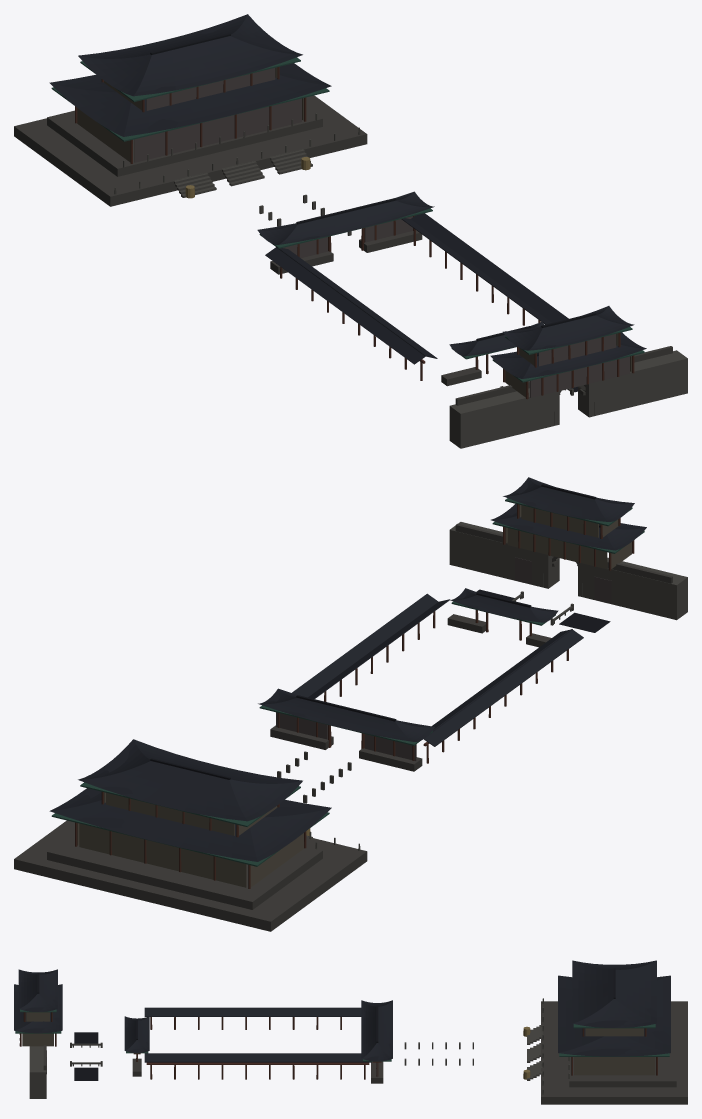
File: palace.glb
3 views of the same model, one above another, from view 1: azimuth 30°, elevation 25°; view 2: azimuth 150°, elevation 25°; view 3: azimuth 270°, elevation 25° (orthographic). The views are drawn at different scales.
Visible parts, largest first — view 1: jj_woldae1, jj_r2, jj_r1, jj_woldae2, gw_baseL, jj_body_wallS, gw_baseR, nj_roof, hg_L_roofA, gw_r2, hg_R_roofB, gw_r1 (+10 smaller); view 2: jj_r2, jj_woldae1, jj_r1, jj_woldae2, jj_body_wallN, gw_baseL, nj_roof, gw_baseR, hg_L_roofA, gw_r2, hg_R_roofB, gw_r1 (+12 smaller); view 3: jj_woldae1, jj_r2, jj_r1, hg_R_roofA, hg_L_roofB, jj_woldae2, nj_roof, gw_r2, jj_body_wallE, gw_r1, hr_roof, gw_baseR (+7 smaller).
Boxes of the visible parts, bbox=[...] form: jj_woldae1: bbox=[14, 95, 367, 206]; jj_r2: bbox=[78, 14, 302, 96]; jj_r1: bbox=[49, 63, 331, 136]; jj_woldae2: bbox=[47, 107, 322, 176]; gw_baseL: bbox=[449, 389, 554, 448]; jj_body_wallS: bbox=[134, 98, 301, 162]; gw_baseR: bbox=[594, 350, 687, 416]; nj_roof: bbox=[257, 191, 434, 244]; hg_L_roofA: bbox=[265, 247, 426, 364]; gw_r2: bbox=[503, 306, 634, 350]; hg_R_roofB: bbox=[410, 213, 568, 322]; gw_r1: bbox=[490, 332, 646, 378]; jj_r2: bbox=[78, 739, 302, 821]; jj_woldae1: bbox=[14, 820, 367, 931]; jj_r1: bbox=[49, 788, 331, 861]; jj_woldae2: bbox=[47, 832, 322, 909]; jj_body_wallN: bbox=[79, 823, 246, 887]; gw_baseL: bbox=[583, 559, 687, 620]; nj_roof: bbox=[258, 688, 434, 741]; gw_baseR: bbox=[449, 522, 543, 587]; hg_L_roofA: bbox=[424, 629, 583, 746]; gw_r2: bbox=[503, 477, 634, 521]; hg_R_roofB: bbox=[292, 593, 438, 697]; gw_r1: bbox=[491, 504, 646, 550]; jj_woldae1: bbox=[541, 1001, 687, 1104]; jj_r2: bbox=[572, 960, 656, 1027]; jj_r1: bbox=[558, 975, 670, 1056]; hg_R_roofA: bbox=[144, 1053, 371, 1062]; hg_L_roofB: bbox=[144, 1007, 361, 1016]; jj_woldae2: bbox=[569, 1004, 676, 1087]; nj_roof: bbox=[361, 1000, 392, 1061]; gw_r2: bbox=[18, 969, 57, 1011]; jj_body_wallE: bbox=[574, 1057, 655, 1075]; gw_r1: bbox=[14, 984, 62, 1033]; hr_roof: bbox=[124, 1016, 149, 1052]; gw_baseR: bbox=[29, 1049, 46, 1098].
Size of the model in its own units: 40 by 14.51 by 119.
